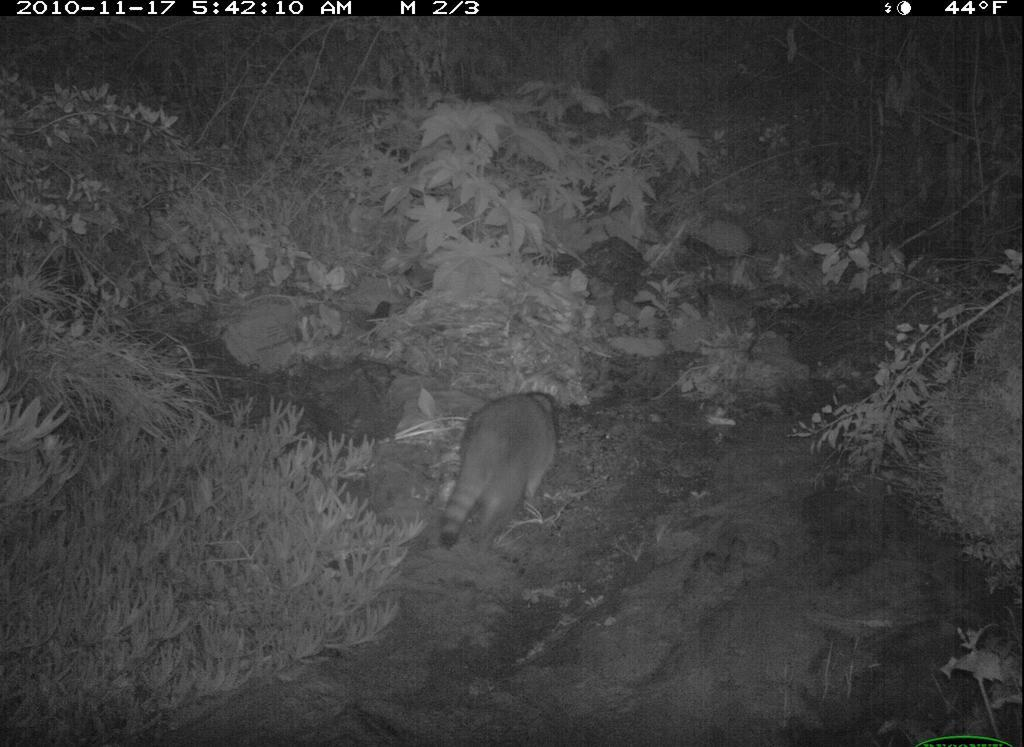raccoon: (432, 386, 570, 561)
